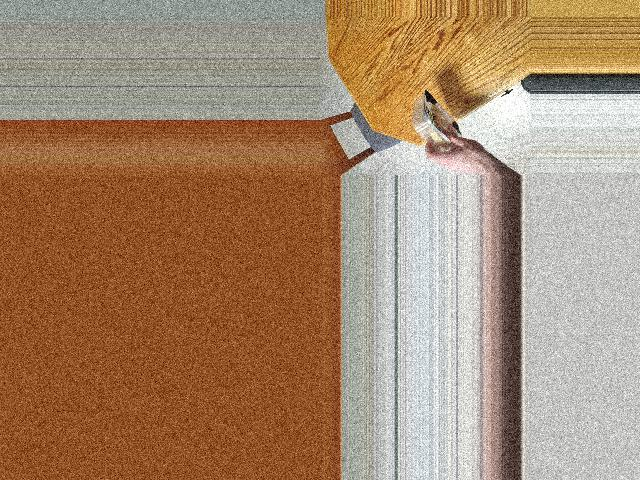cheese: (398, 97, 469, 154)
